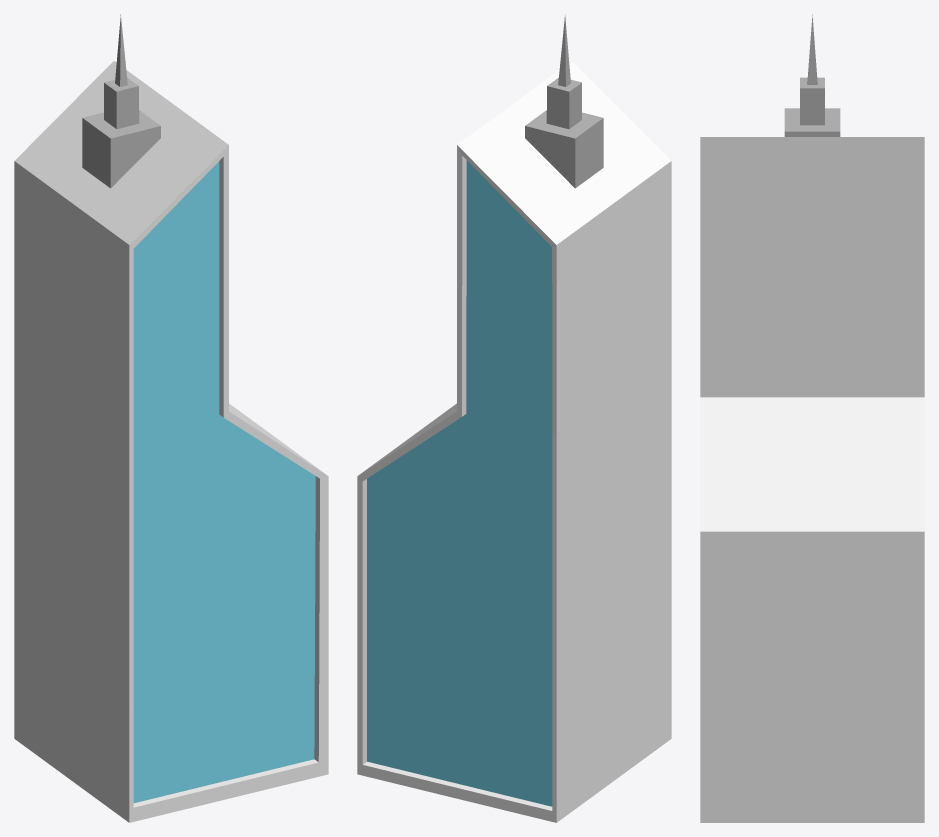
The model's file is Kojima_Tower.fbx.
The picture shows the model from 3 angles, left to right: view 1: azimuth 30°, elevation 25°; view 2: azimuth 150°, elevation 25°; view 3: azimuth 270°, elevation 25°; orthographic projection. The views are drawn at different scales.
Visible parts, largest first — view 1: Kojima_Tower; view 2: Kojima_Tower; view 3: Kojima_Tower.
Part boxes in pixels (x1,y1,x2,y2): Kojima_Tower: (14,14,328,822); Kojima_Tower: (357,14,671,822); Kojima_Tower: (700,14,924,822).
Size of the model in its own units: 5709 by 20683 by 5709.
